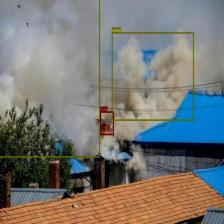fire: (100, 111, 114, 135)
smoke: (0, 0, 100, 157), (112, 32, 194, 120)
